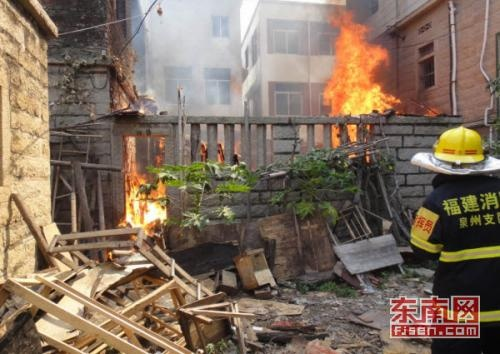fire: (319, 1, 403, 149), (120, 134, 167, 239)
